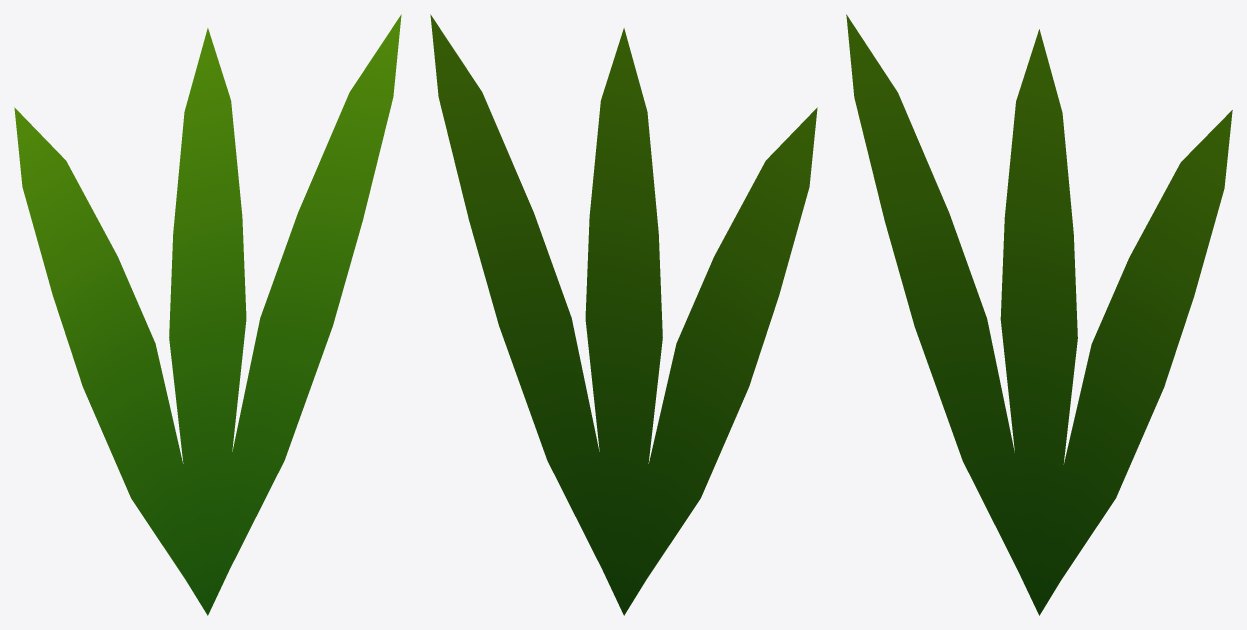
The model's file is grass_2.glb.
3 renders of one model, left to right at view 1: azimuth 30°, elevation 25°; view 2: azimuth 150°, elevation 25°; view 3: azimuth 330°, elevation 25°, orthographic.
Visible parts, largest first — view 1: grass_2; view 2: grass_2; view 3: grass_2.
Boxes of the visible parts, x1,y1,x2,y2 form: grass_2: [14, 14, 401, 615]; grass_2: [430, 14, 817, 615]; grass_2: [846, 14, 1232, 615].
Bounding box in the file's own units: 0.3984 × 0.5788 × 4.77e-07.
Materials: 1 (1 with a texture image).
